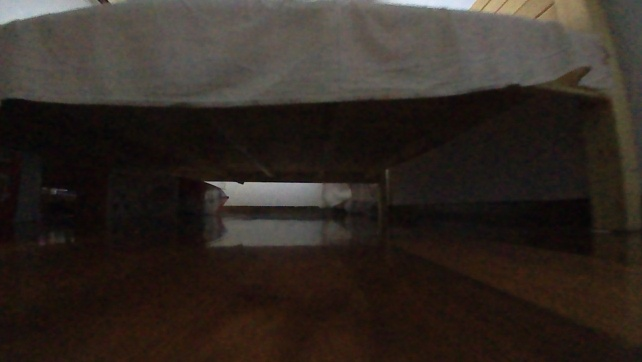bed1: (0, 0, 641, 242)
